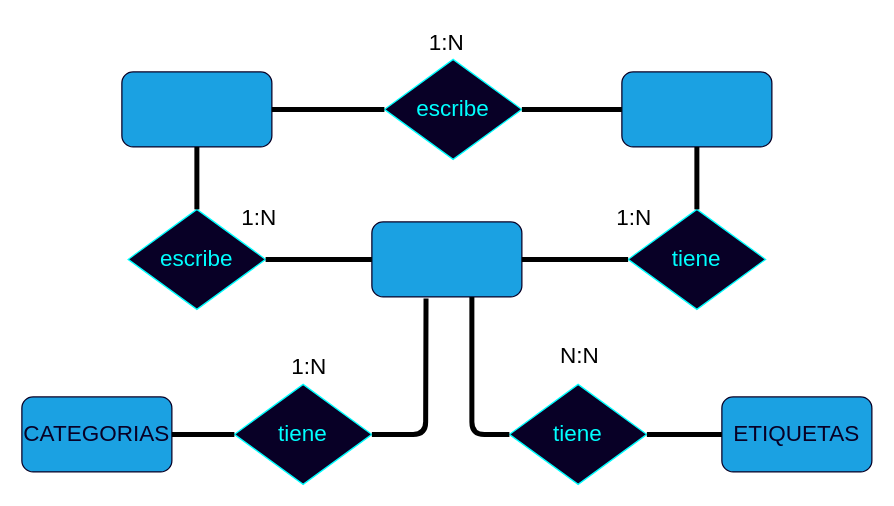
Some shapes in this 894 by 506 pixel diagram are drawn without their labels. The shapes that lost their labels are listed below. From the top down, each one's centre as x and y in pixels, then its label:
At (x=196, y=109): "USUARIOS".
At (x=696, y=109): "COMENTARIOS".
At (x=446, y=259): "POSTS".
